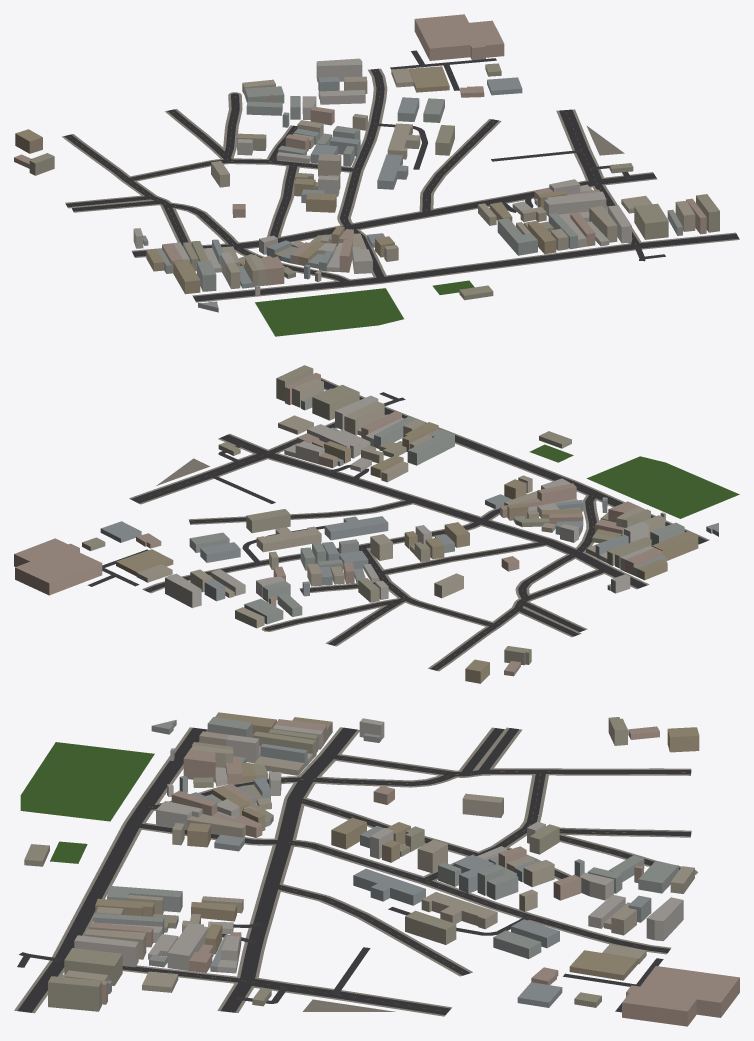
3 views of the same model, one above another, from view 1: azimuth 30°, elevation 25°; view 2: azimuth 150°, elevation 25°; view 3: azimuth 270°, elevation 25° (orthographic). The views are drawn at different scales.
Visible parts, largest first — view 1: tile_1_0; view 2: tile_1_0; view 3: tile_1_0.
Boxes of the visible parts, x1,y1,x2,y2 form: tile_1_0: (14,14,739,336); tile_1_0: (14,365,739,683); tile_1_0: (14,712,739,1026).
Bounding box in the file's own units: 426 × 16.4 × 433.
